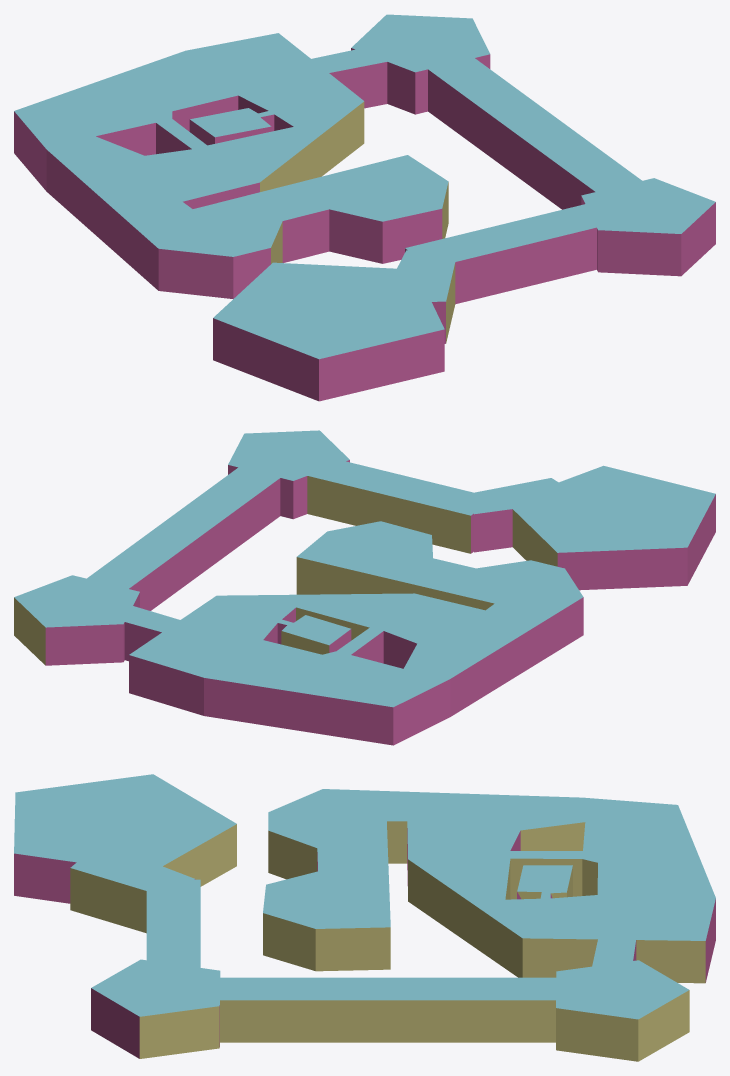
The model's file is FPS_level_floor_plan.fbx.
3 renders of one model, top to bottom at view 1: azimuth 30°, elevation 25°; view 2: azimuth 150°, elevation 25°; view 3: azimuth 270°, elevation 25°, orthographic. The views are drawn at different scales.
Visible parts, largest first — view 1: FPS level; view 2: FPS level; view 3: FPS level.
Boxes of the visible parts, x1=… form: FPS level: x1=14, y1=14, x2=715, y2=401; FPS level: x1=14, y1=430, x2=715, y2=745; FPS level: x1=14, y1=774, x2=715, y2=1061.
Size of the model in its own units: 18663 by 1500 by 22567.
